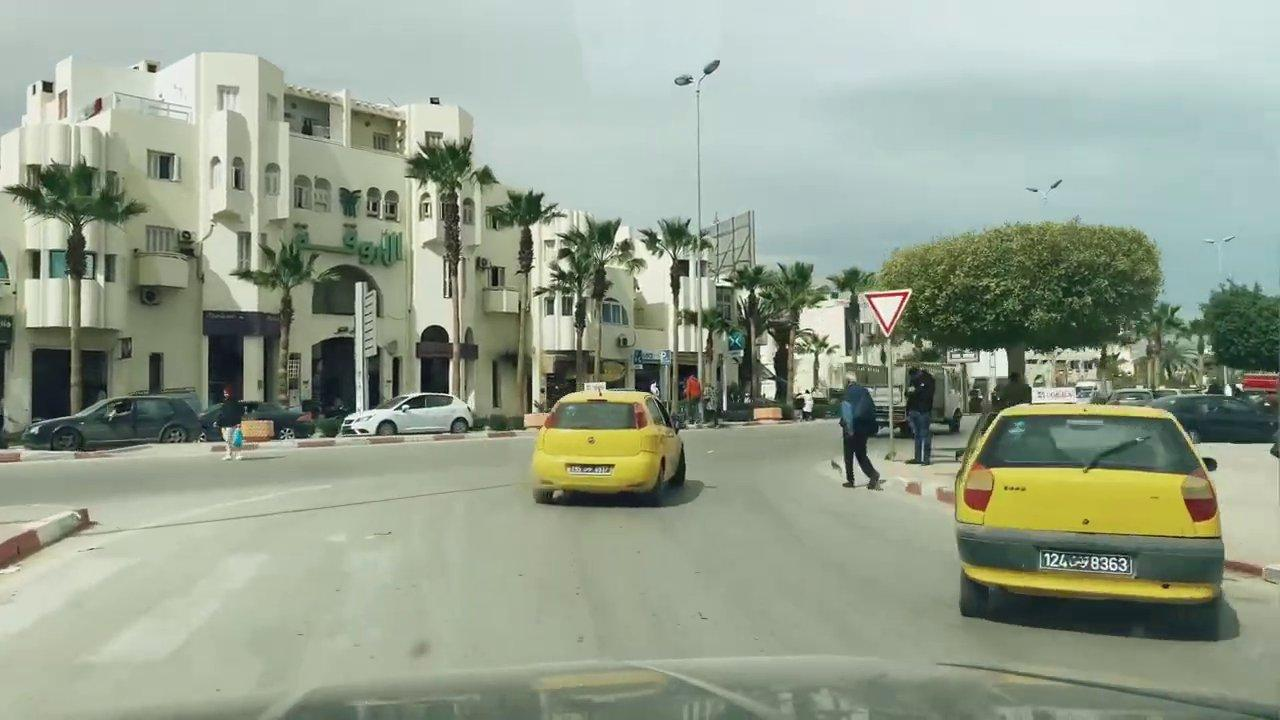give way: (859, 287, 917, 338)
